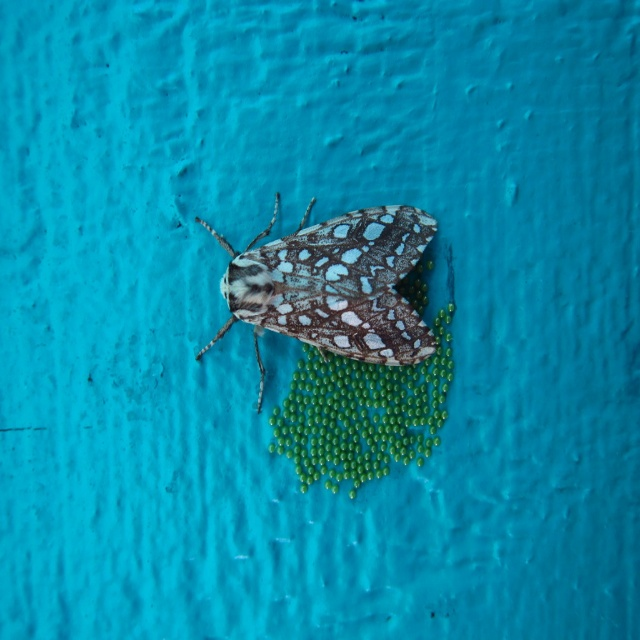Butterfly: (194, 191, 439, 416)
